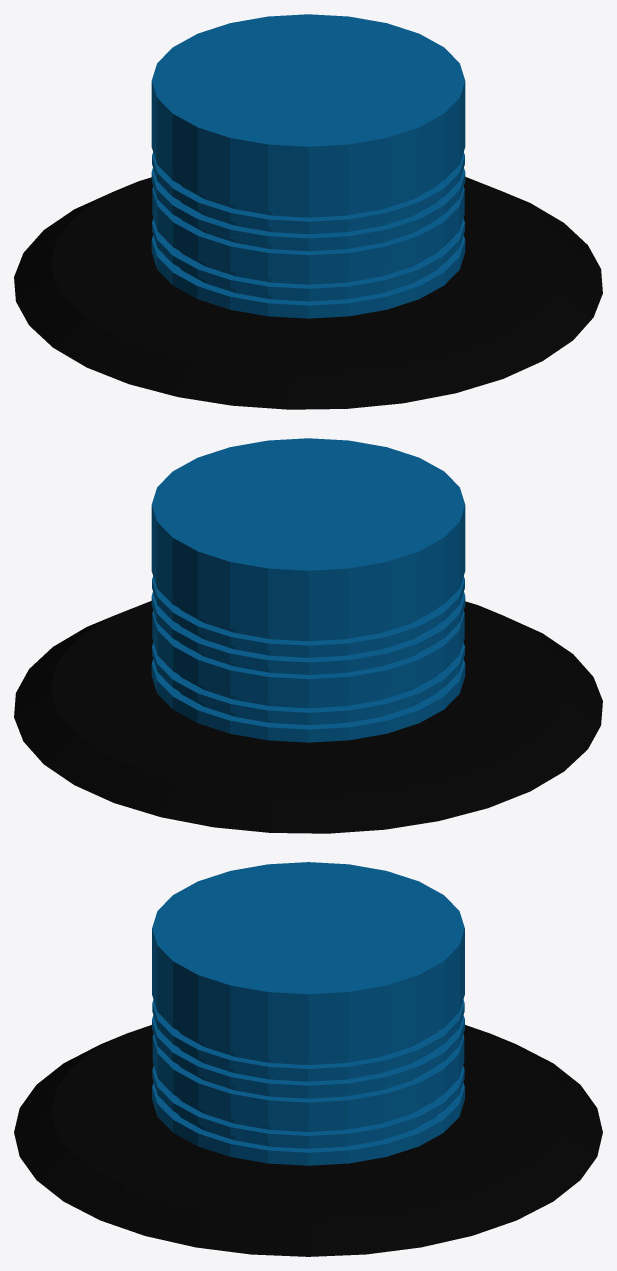
File: props.fbx_reg6.fbx
The picture shows the model from 3 angles, top to bottom: view 1: azimuth 30°, elevation 25°; view 2: azimuth 150°, elevation 25°; view 3: azimuth 270°, elevation 25°; orthographic projection.
Parts seen in each view (by area): view 1: Cylinder.015, Circle.031; view 2: Cylinder.015, Circle.031; view 3: Cylinder.015, Circle.031.
Boxes of the visible parts, bbox=[...] form: Cylinder.015: bbox=[151, 14, 465, 318]; Circle.031: bbox=[14, 177, 602, 409]; Cylinder.015: bbox=[151, 438, 465, 742]; Circle.031: bbox=[14, 601, 602, 833]; Cylinder.015: bbox=[152, 862, 464, 1165]; Circle.031: bbox=[14, 1025, 602, 1256].
Size of the model in its own units: 0.6411 by 0.2454 by 0.6411.
